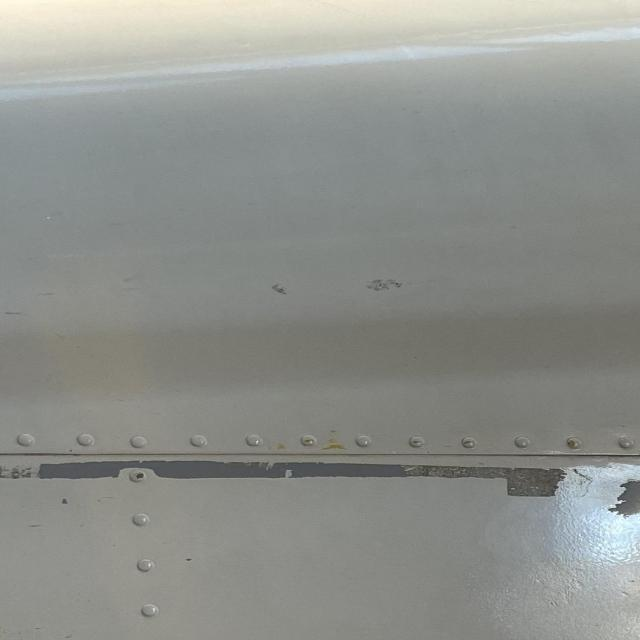Paint-off: (365, 279, 402, 292), (270, 283, 286, 295)
